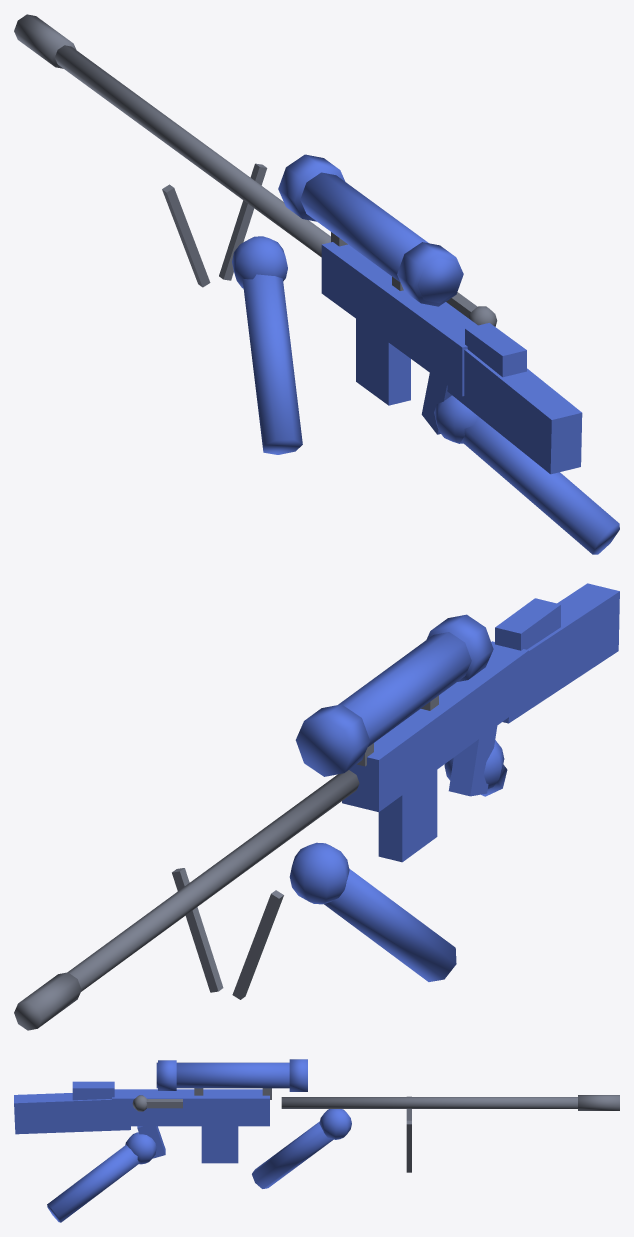
File: sniper.glb
The picture shows the model from 3 angles, top to bottom: view 1: azimuth 30°, elevation 25°; view 2: azimuth 150°, elevation 25°; view 3: azimuth 270°, elevation 25°; orthographic projection. The views are drawn at different scales.
Parts seen in each view (by area): view 1: body, stock, barrel, scope_tube, hand_L, hand_R_arm, mag, cheek_riser, hand_L_fist, scope_objective, scope_ocular, muzzle_brake (+4 smaller); view 2: body, barrel, stock, scope_tube, hand_L, scope_objective, mag, hand_L_fist, cheek_riser, muzzle_brake, grip, scope_ocular (+3 smaller); view 3: body, stock, barrel, scope_tube, hand_R_arm, hand_L, mag, cheek_riser, hand_L_fist, muzzle_brake, hand_R_fist, scope_objective (+4 smaller).
Part boxes in pixels (bbox=[...]): body: bbox=[321, 242, 477, 396]; stock: bbox=[447, 349, 582, 474]; barrel: bbox=[55, 45, 330, 257]; scope_tube: bbox=[300, 172, 460, 303]; hand_L: bbox=[242, 274, 302, 454]; hand_R_arm: bbox=[461, 416, 619, 554]; mag: bbox=[356, 319, 410, 405]; cheek_riser: bbox=[465, 323, 526, 377]; hand_L_fist: bbox=[232, 236, 287, 288]; scope_objective: bbox=[278, 154, 345, 221]; scope_ocular: bbox=[397, 242, 463, 306]; muzzle_brake: bbox=[14, 14, 76, 68]; body: bbox=[342, 641, 528, 812]; barrel: bbox=[68, 770, 359, 991]; stock: bbox=[503, 583, 619, 723]; scope_tube: bbox=[338, 632, 471, 746]; hand_L: bbox=[324, 869, 456, 981]; scope_objective: bbox=[295, 704, 370, 776]; mag: bbox=[378, 770, 437, 862]; hand_L_fist: bbox=[289, 842, 349, 904]; cheek_riser: bbox=[495, 598, 560, 650]; muzzle_brake: bbox=[14, 972, 81, 1030]; grip: bbox=[448, 726, 497, 796]; scope_ocular: bbox=[426, 614, 493, 681]; body: bbox=[112, 1089, 269, 1126]; stock: bbox=[14, 1093, 130, 1134]; barrel: bbox=[281, 1097, 577, 1108]; scope_tube: bbox=[156, 1062, 289, 1088]; hand_R_arm: bbox=[47, 1144, 139, 1222]; hand_L: bbox=[252, 1121, 333, 1188]; mag: bbox=[201, 1126, 238, 1163]; cheek_riser: bbox=[72, 1081, 114, 1100]; hand_L_fist: bbox=[319, 1109, 351, 1139]; muzzle_brake: bbox=[578, 1095, 619, 1110]; hand_R_fist: bbox=[125, 1132, 156, 1164]; scope_objective: bbox=[289, 1059, 307, 1091].
Size of the model in its own units: 0.4316 by 0.6102 by 2.3.
